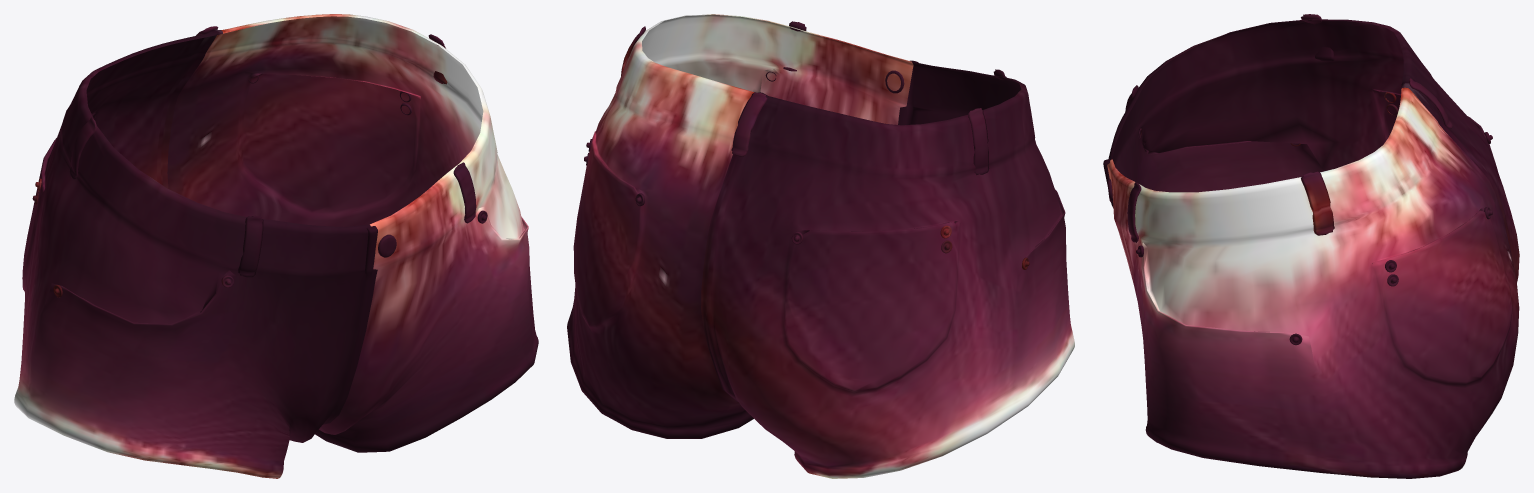
The model's file is f_trousers04.obj.
3 renders of one model, left to right at view 1: azimuth 30°, elevation 25°; view 2: azimuth 150°, elevation 25°; view 3: azimuth 270°, elevation 25°, orthographic. The views are drawn at different scales.
Visible parts, largest first — view 1: short_jeans; view 2: short_jeans; view 3: short_jeans.
Boxes of the visible parts, x1,y1,x2,y2 form: short_jeans: (14, 14, 538, 478); short_jeans: (567, 14, 1074, 478); short_jeans: (1103, 14, 1519, 478).
Bounding box in the file's own units: 43.33 × 32.52 × 35.43.
1 material, 1 textured.
